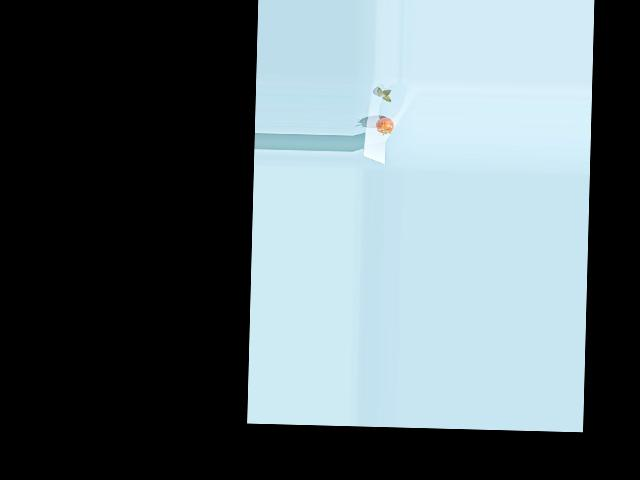tomato: (375, 117, 394, 134)
